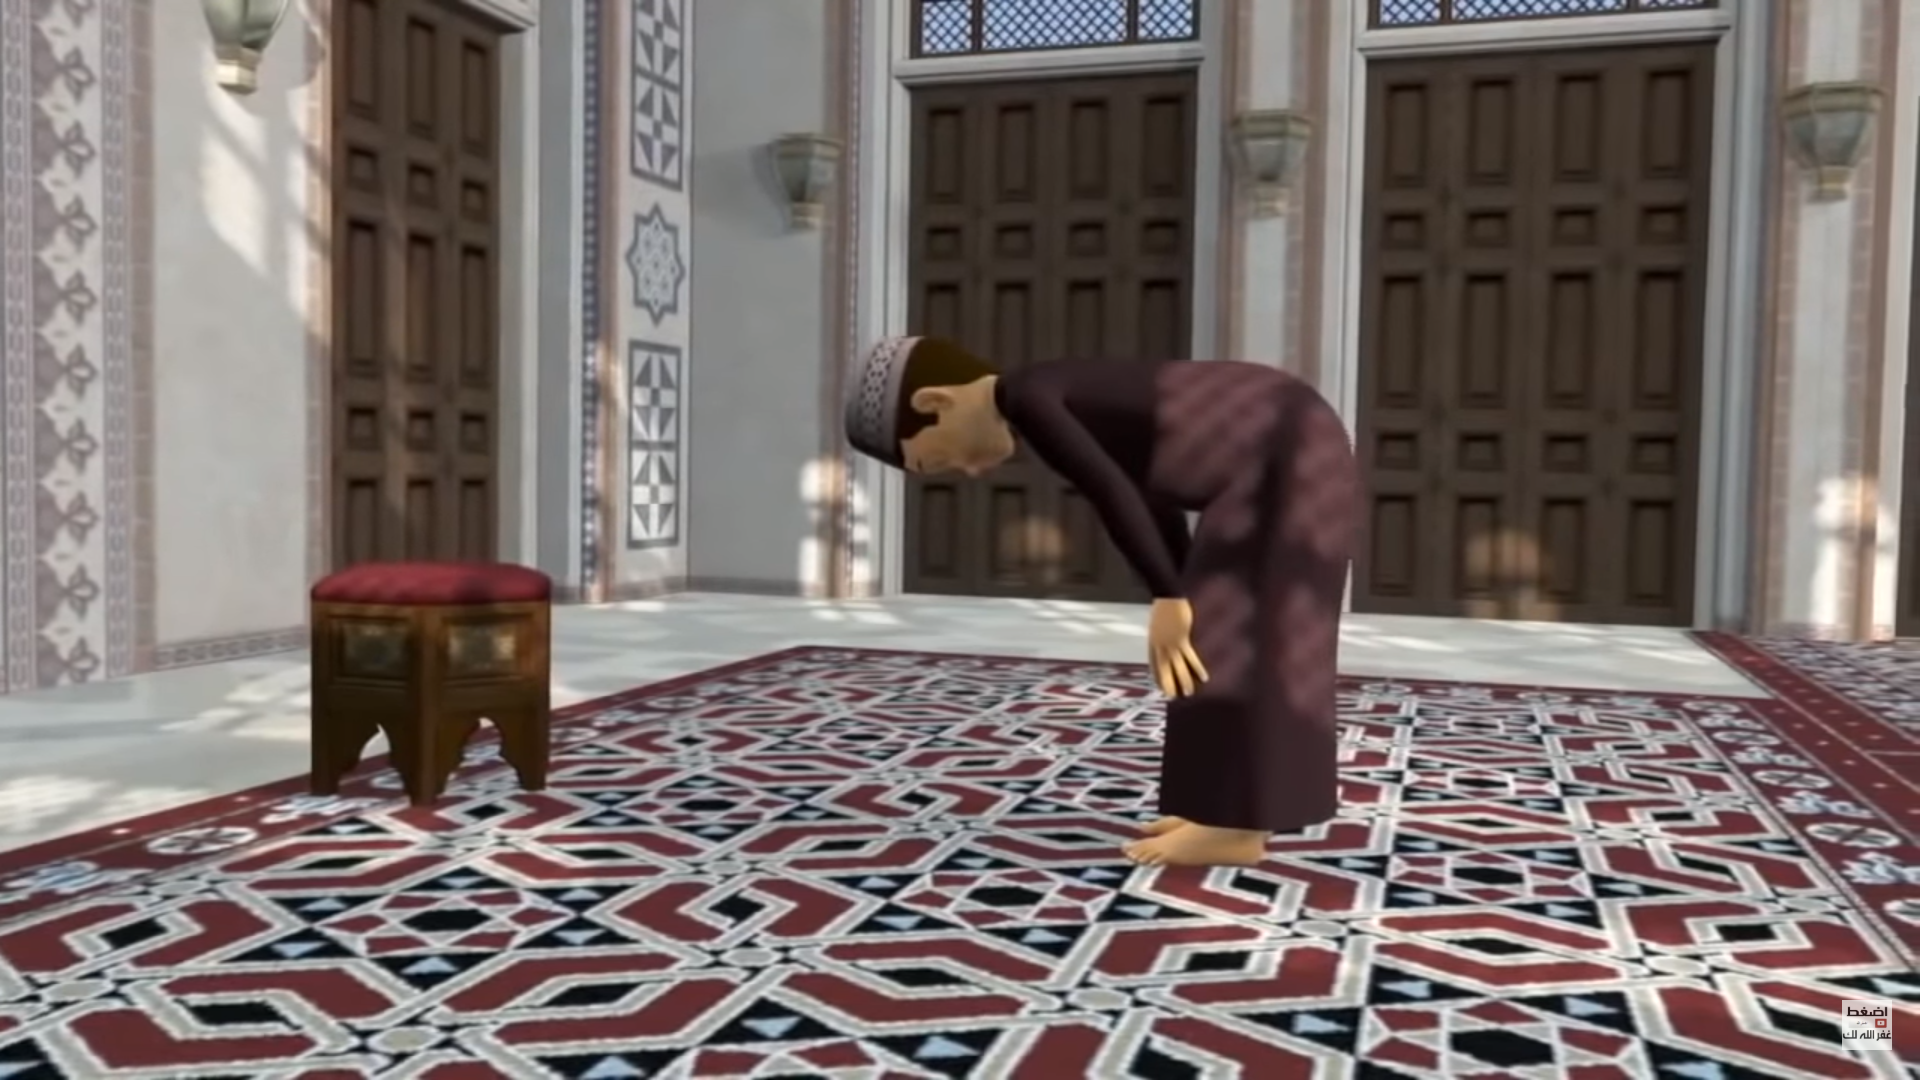ruku: (622, 276, 1516, 986)
